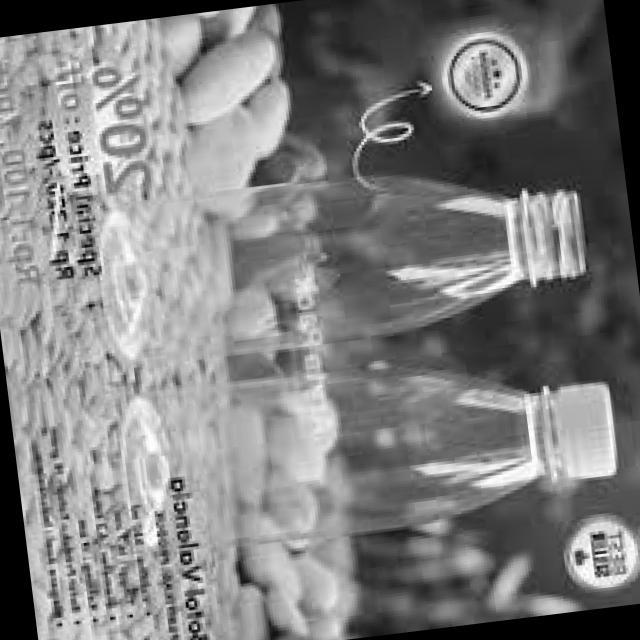good: (94, 317, 630, 565), (84, 150, 593, 378)
